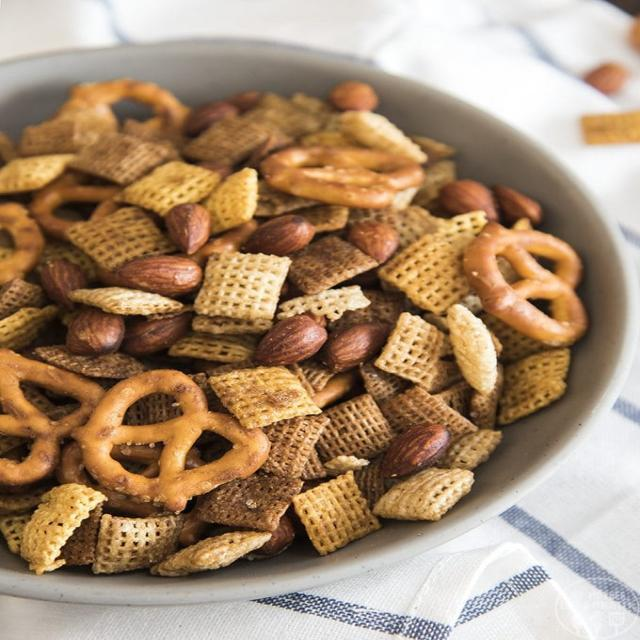Salatini: (7, 67, 609, 591)
